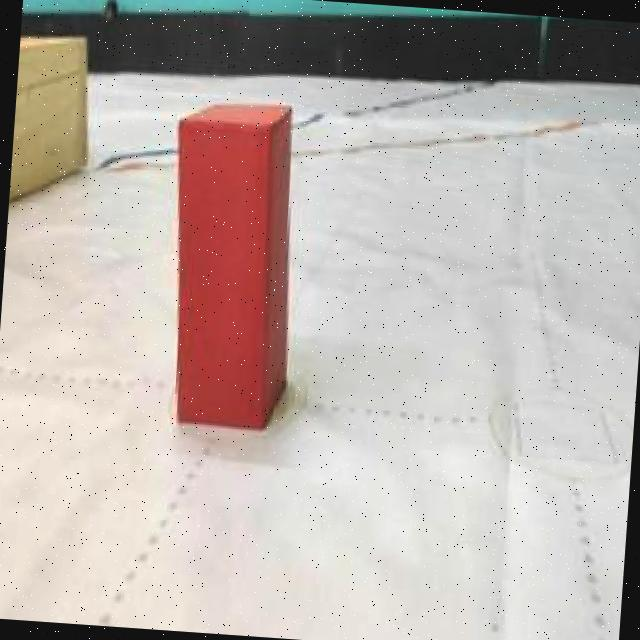redbox: (156, 92, 301, 431)
